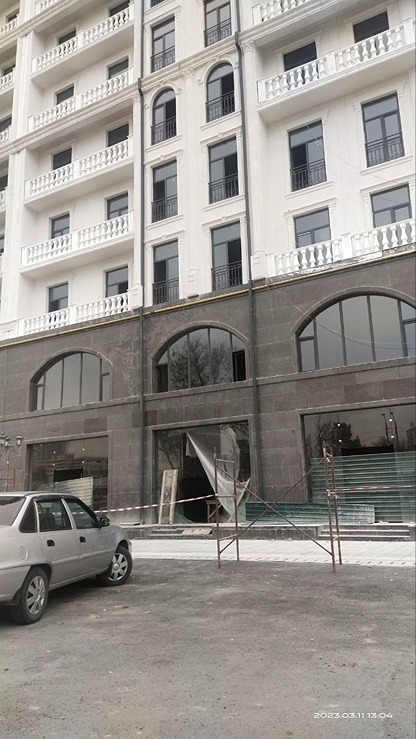car: (0, 485, 134, 637)
